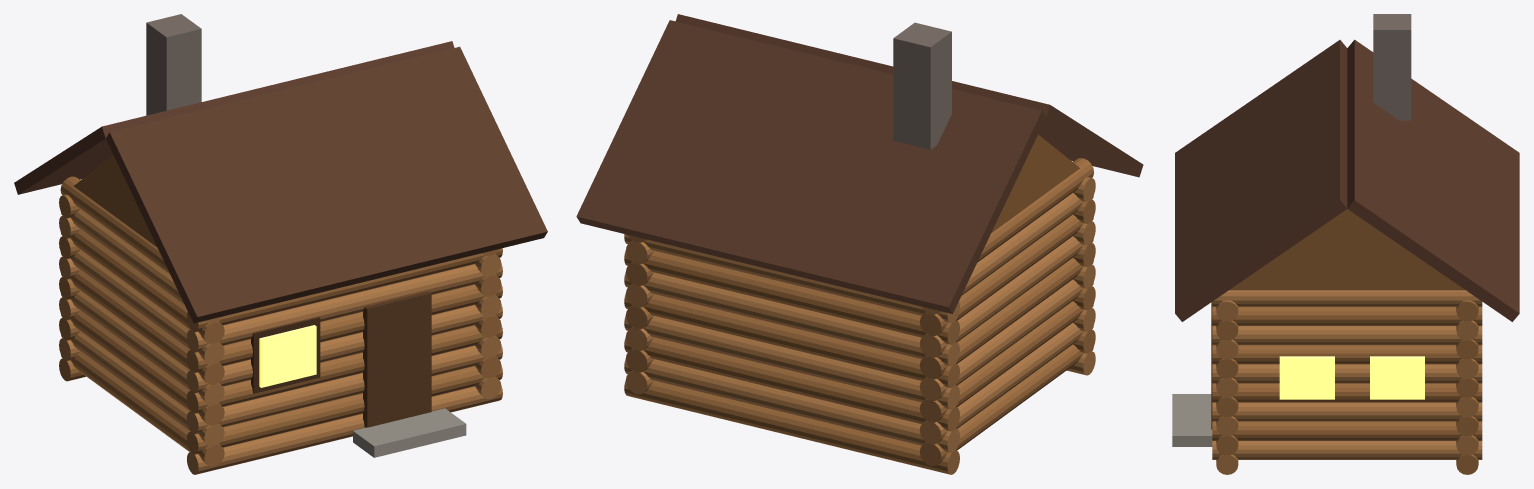
Rendered from cabin.glb.
The picture shows the model from 3 angles, left to right: view 1: azimuth 30°, elevation 25°; view 2: azimuth 150°, elevation 25°; view 3: azimuth 270°, elevation 25°; orthographic projection. The views are drawn at different scales.
Visible parts, largest first — view 1: roof0, door, roof1, logx60, chimney, logx00, logx10, logx20, logx30, step, logx50, logx40 (+13 smaller); view 2: roof1, logx01, chimney, logx61, logx31, logx51, logx41, logx21, logx11, roof0, logy00, logy30 (+9 smaller); view 3: roof0, roof1, gable1, logy61, logy11, logy21, logy01, logy71, logy81, chimney, logy51, logy31 (+22 smaller).
Boxes of the visible parts, x1,y1,x2,y2 form: roof0: [106, 46, 547, 323]; door: [363, 291, 431, 427]; roof1: [14, 41, 454, 194]; logx60: [187, 263, 502, 352]; chimney: [146, 14, 201, 115]; logx00: [187, 386, 502, 474]; logx10: [187, 365, 502, 454]; logx20: [187, 345, 502, 433]; logx30: [187, 324, 502, 413]; step: [353, 408, 466, 457]; logx50: [187, 284, 502, 372]; logx40: [187, 304, 502, 393]; roof1: [576, 20, 1045, 313]; logx01: [624, 380, 959, 474]; chimney: [893, 22, 951, 149]; logx61: [624, 250, 959, 344]; logx31: [624, 315, 959, 409]; logx51: [624, 272, 959, 366]; logx41: [624, 293, 959, 388]; logx21: [624, 337, 959, 431]; logx11: [624, 358, 959, 453]; roof0: [676, 14, 1143, 177]; logy00: [919, 344, 1093, 465]; logy30: [919, 279, 1093, 400]; roof0: [1175, 40, 1347, 321]; roof1: [1347, 39, 1519, 321]; gable1: [1229, 209, 1465, 290]; logy61: [1212, 326, 1482, 345]; logy11: [1212, 421, 1482, 440]; logy21: [1212, 402, 1482, 421]; logy01: [1212, 441, 1482, 459]; logy71: [1212, 307, 1482, 325]; logy81: [1212, 290, 1482, 306]; chimney: [1373, 14, 1411, 120]; logy51: [1212, 345, 1482, 364]; logy31: [1212, 383, 1482, 402].
Bounding box in the file's own units: 3.8 × 3.81 × 3.47.
